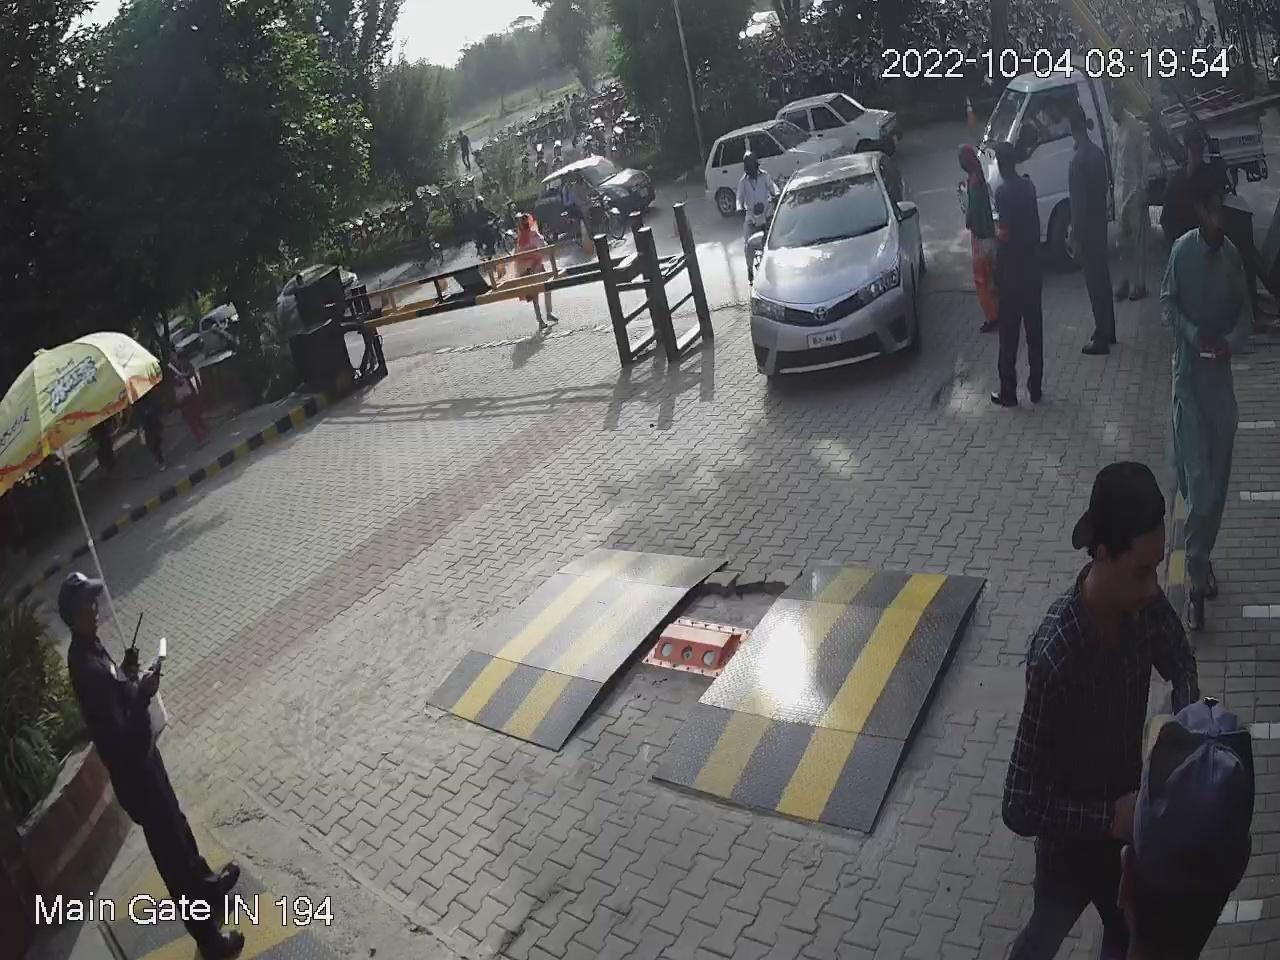windshield: (763, 162, 895, 252)
